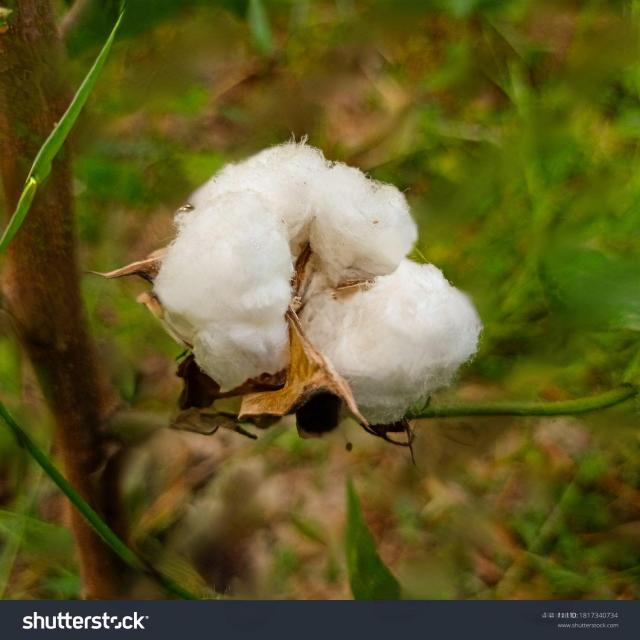Late_blight: (74, 132, 501, 453)
